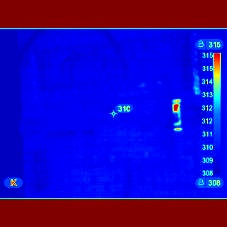Less: (173, 113, 182, 131)
